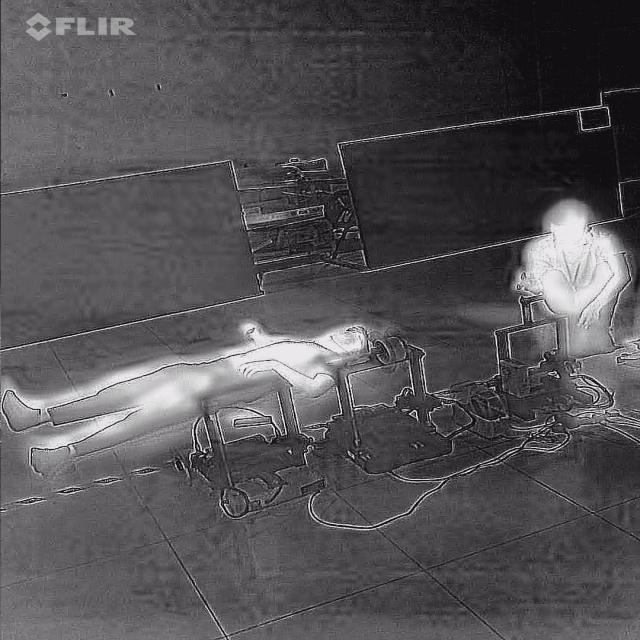Victim: (1, 318, 377, 479), (512, 198, 632, 361)
